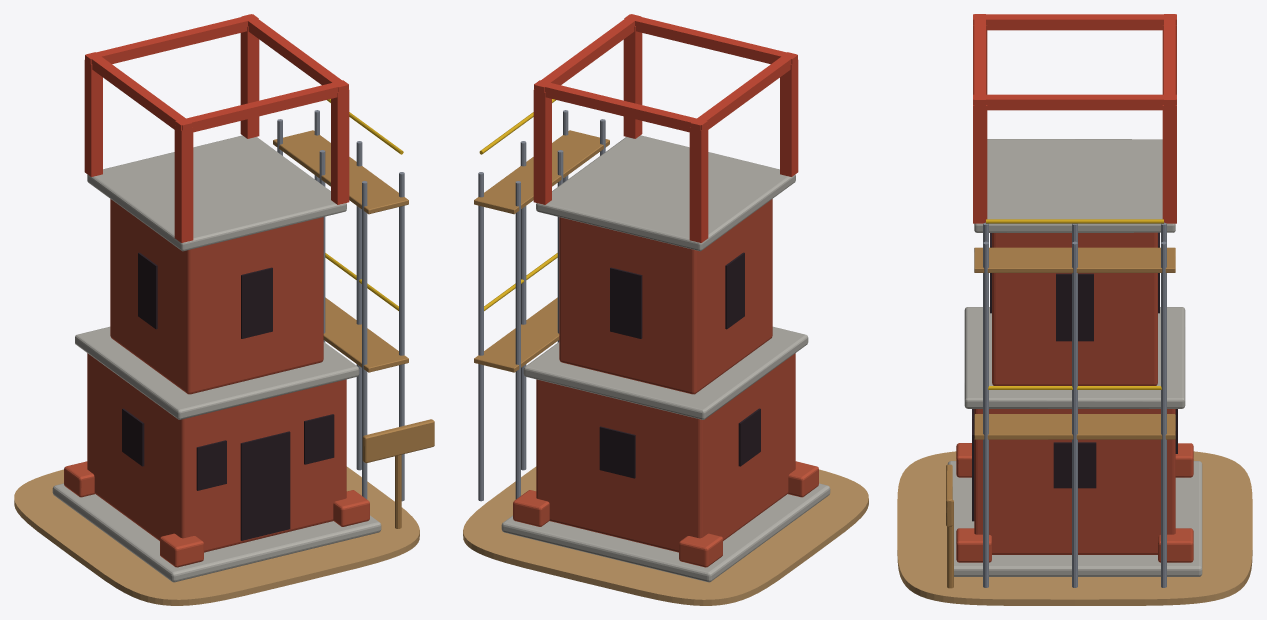
File: clock-tower-lod1-2.b5a2d4c6.glb
3 renders of one model, left to right at view 1: azimuth 30°, elevation 25°; view 2: azimuth 150°, elevation 25°; view 3: azimuth 270°, elevation 25°, orthographic. The views are drawn at different scales.
Visible parts, largest first — view 1: ClockTower_Stage2__T_vcol; view 2: ClockTower_Stage2__T_vcol; view 3: ClockTower_Stage2__T_vcol.
Part boxes in pixels (<box>): ClockTower_Stage2__T_vcol: <box>14,14,434,605</box>; ClockTower_Stage2__T_vcol: <box>463,14,868,605</box>; ClockTower_Stage2__T_vcol: <box>897,14,1252,605</box>.
Size of the model in its own units: 4.97 by 7.06 by 4.8.
